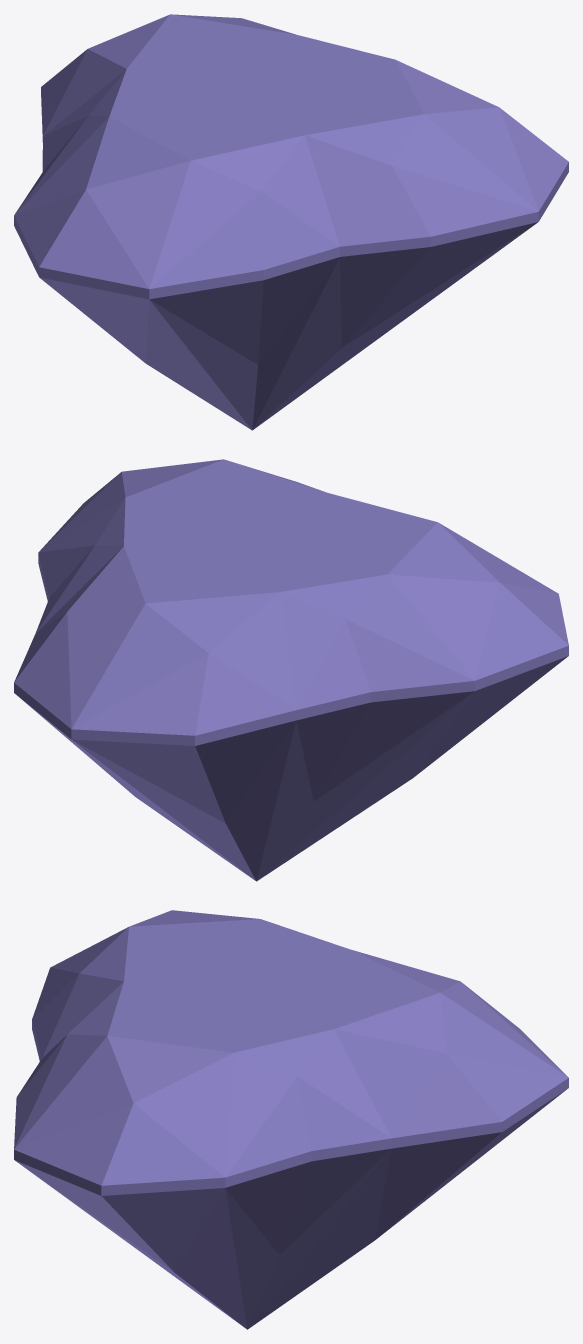
Rendered from stone-tanzanite.glb.
3 views of the same model, one above another, from view 1: azimuth 30°, elevation 25°; view 2: azimuth 150°, elevation 25°; view 3: azimuth 270°, elevation 25° (orthographic).
Visible parts, largest first — view 1: Gemstone Tanzanite; view 2: Gemstone Tanzanite; view 3: Gemstone Tanzanite.
Boxes of the visible parts, left/top/right/bottom form: Gemstone Tanzanite: left=14, top=14, right=568, bottom=430; Gemstone Tanzanite: left=14, top=459, right=568, bottom=881; Gemstone Tanzanite: left=14, top=910, right=568, bottom=1329.
Size of the model in its own units: 1.82 by 1.18 by 1.72.
